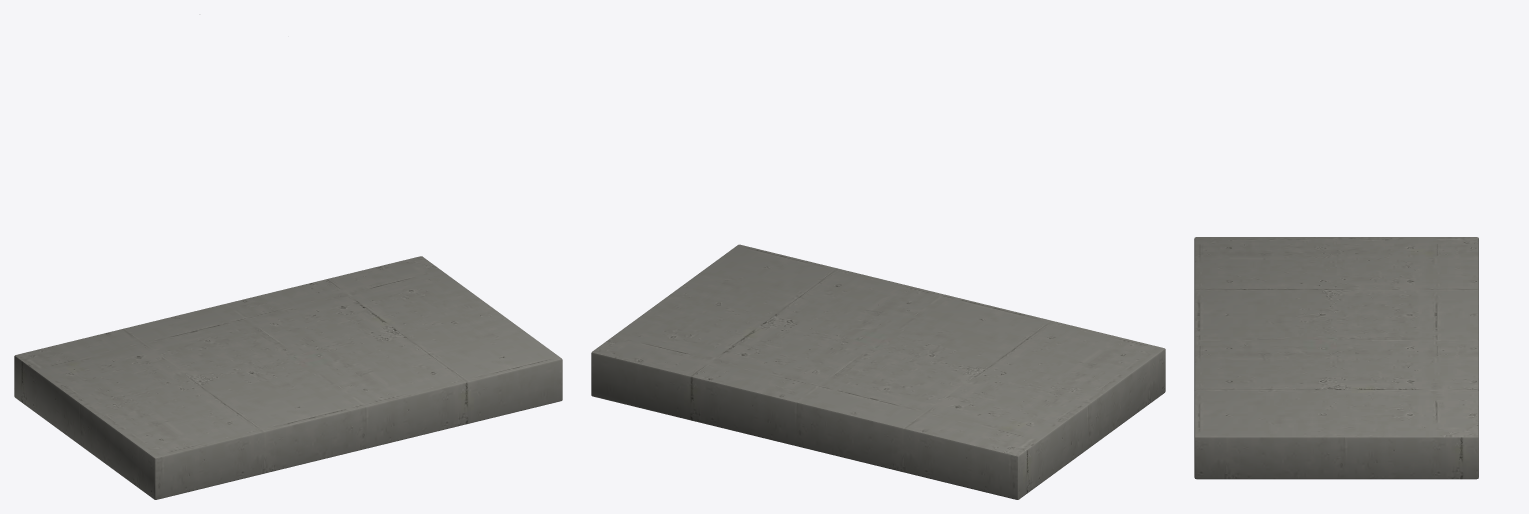
The model's file is HID-DRN-005_anim.glb.
The picture shows the model from 3 angles, left to right: view 1: azimuth 30°, elevation 25°; view 2: azimuth 150°, elevation 25°; view 3: azimuth 270°, elevation 25°; orthographic projection. The views are drawn at different scales.
Visible parts, largest first — view 1: HID-DRN-005_anim0; view 2: HID-DRN-005_anim0; view 3: HID-DRN-005_anim0.
Part boxes in pixels (x1,y1,x2,y2): HID-DRN-005_anim0: (14,256,562,499); HID-DRN-005_anim0: (591,244,1165,499); HID-DRN-005_anim0: (1194,237,1478,479).
Size of the model in its own units: 1.1 by 0.85 by 0.6751.
Materials: 2 (1 with a texture image).
